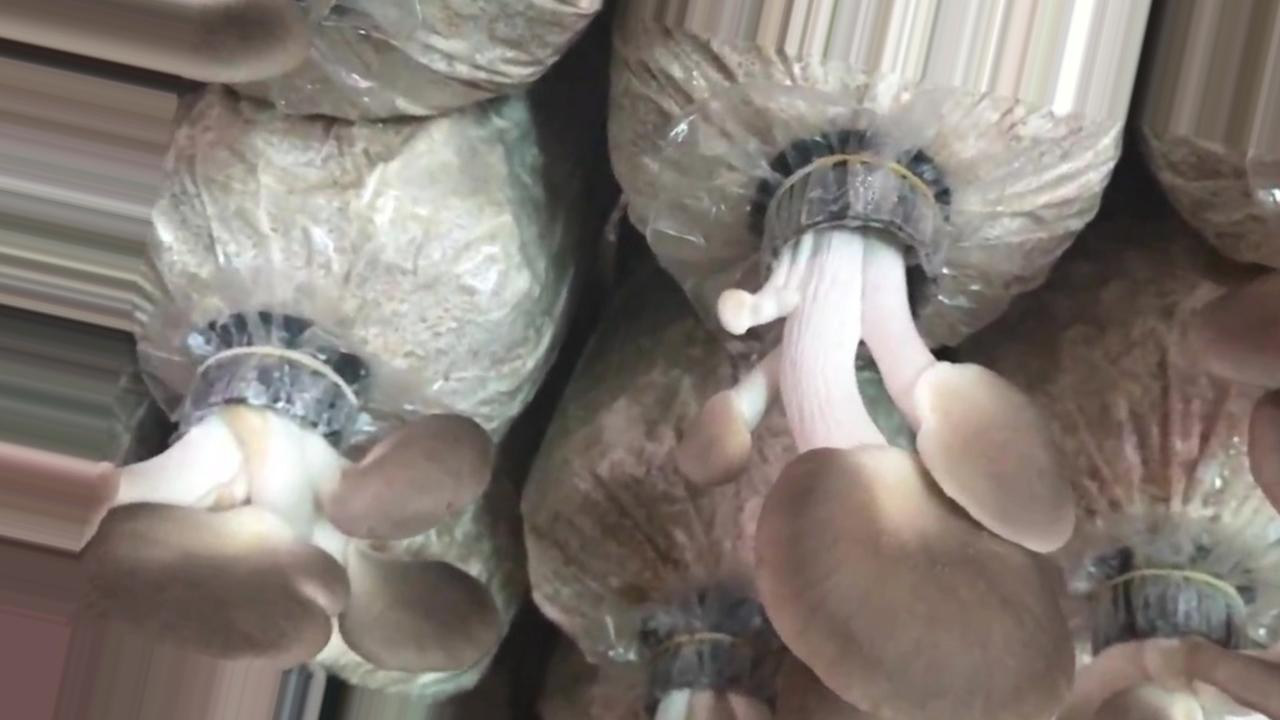nam: (673, 141, 1074, 720), (1, 349, 499, 720)
